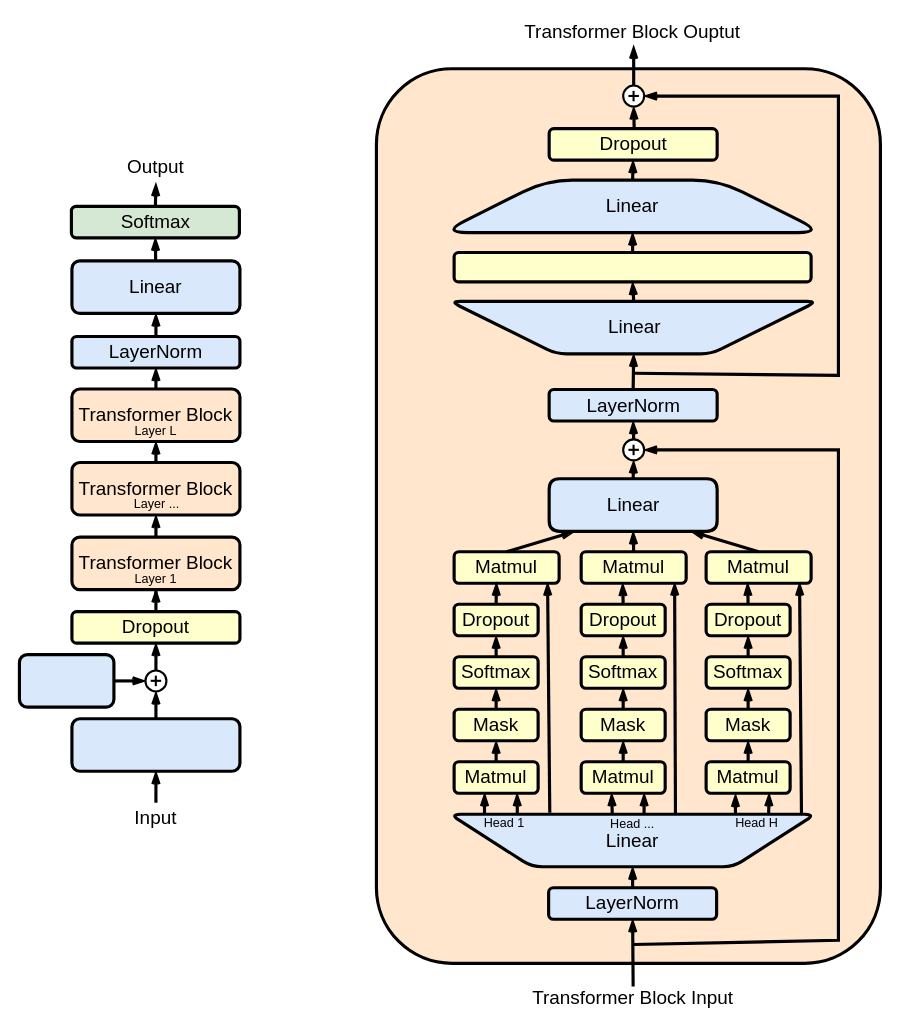
Some shapes in this 900 by 1027 pixel diagram are drawn without their labels. Each missing label, with the box of its shape:
Gelu: (452, 250, 812, 283)
Input Embedding: (70, 717, 241, 772)
Positional Encoding: (17, 653, 115, 708)
